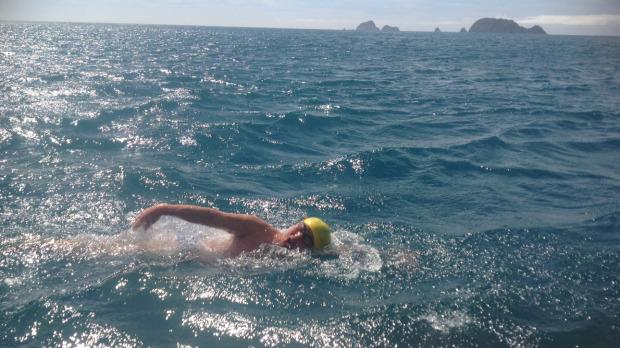human: (107, 202, 340, 257)
